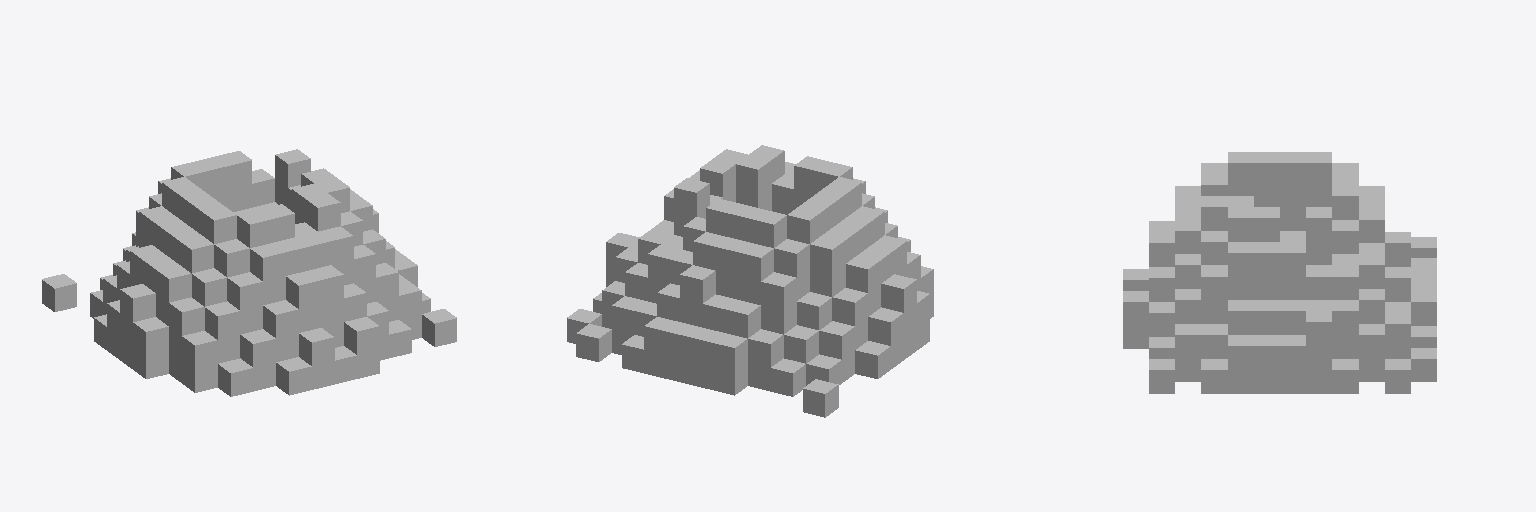
File: Molehill.obj
The picture shows the model from 3 angles: view 1: azimuth 30°, elevation 25°; view 2: azimuth 150°, elevation 25°; view 3: azimuth 270°, elevation 25°; orthographic projection.
Size of the model in its own units: 12 by 6 by 12.